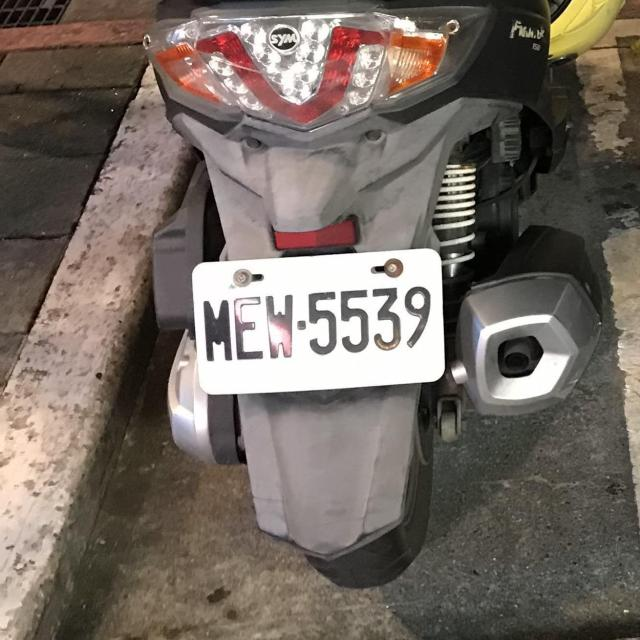W: (189, 247, 446, 395)
